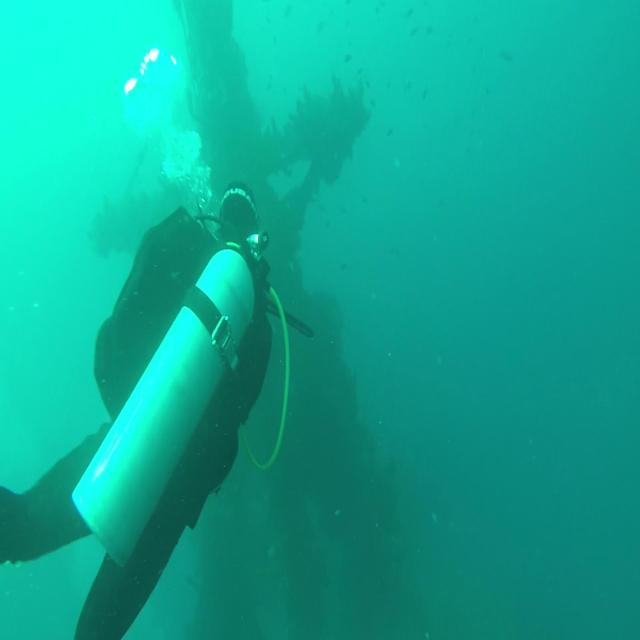human: (2, 179, 286, 638)
